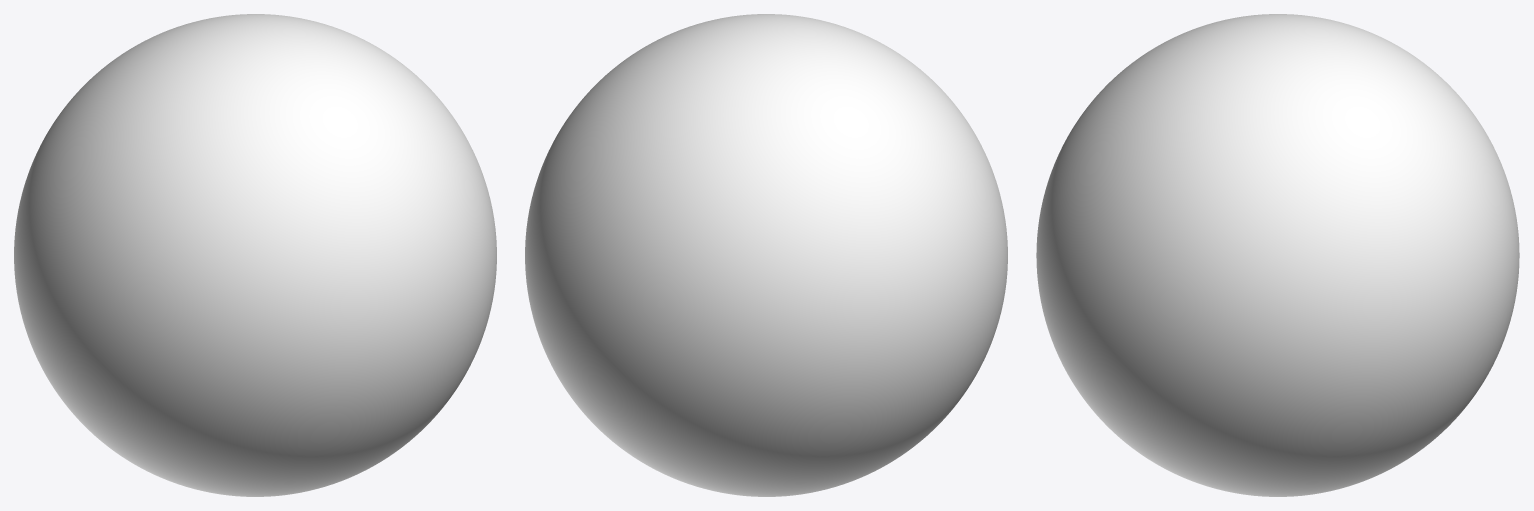
File: largehead.gltf
3 renders of one model, left to right at view 1: azimuth 30°, elevation 25°; view 2: azimuth 150°, elevation 25°; view 3: azimuth 270°, elevation 25°, orthographic.
Visible parts, largest first — view 1: Icosphere.001; view 2: Icosphere.001; view 3: Icosphere.001.
Part boxes in pixels (x1,y1,x2,y2): Icosphere.001: (14, 14, 496, 496); Icosphere.001: (525, 14, 1007, 496); Icosphere.001: (1036, 14, 1519, 496).
Bounding box in the file's own units: 40 × 40 × 40.
Materials: 1 (1 with a texture image).
